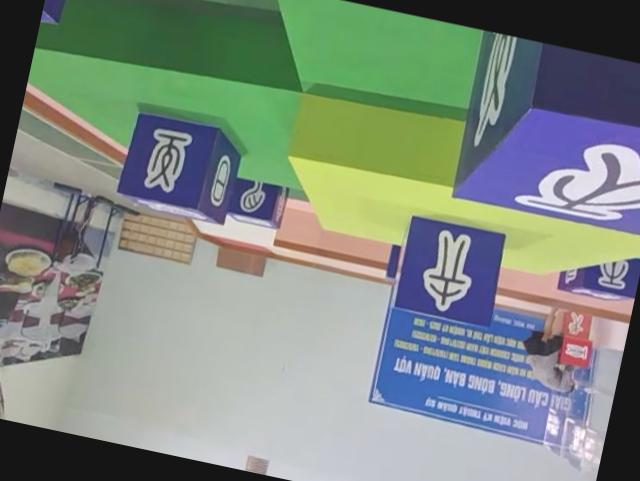R2 Fake Blue: (448, 30, 640, 257), (117, 107, 249, 227), (386, 209, 510, 332), (554, 241, 640, 305), (223, 173, 292, 231), (38, 0, 86, 33)
